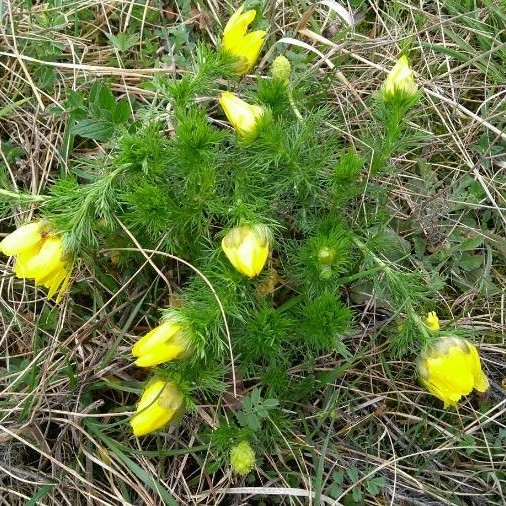obstacle: (10, 16, 454, 471)
